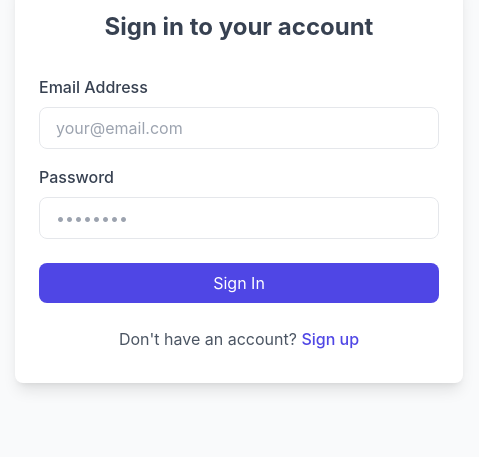
Test: Login Component › validates email and password fields
# Submit form without entering data
Click the button "Sign In" at [239, 283], box [39,263,439,303]
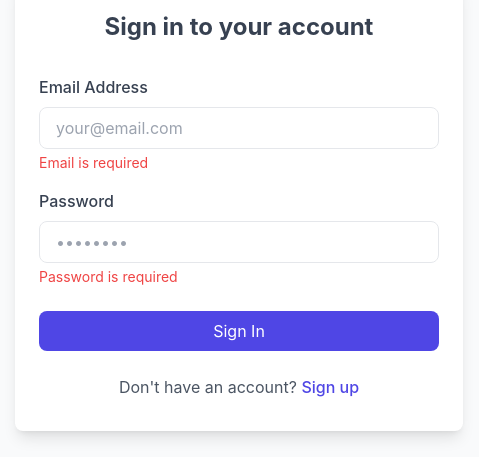
Result: the text "Email is required" is shown at [39,154,148,171]
Result: the text "Password is required" is shown at [39,268,178,285]
# Enter invalid email
Type "invalid-email" into the field labelled "Email Address" at [239, 128], box [39,107,439,149]
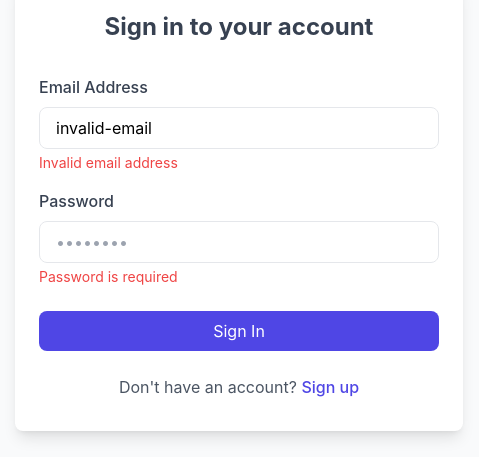
Result: the text "Invalid email address" is shown at [39,154,178,171]
